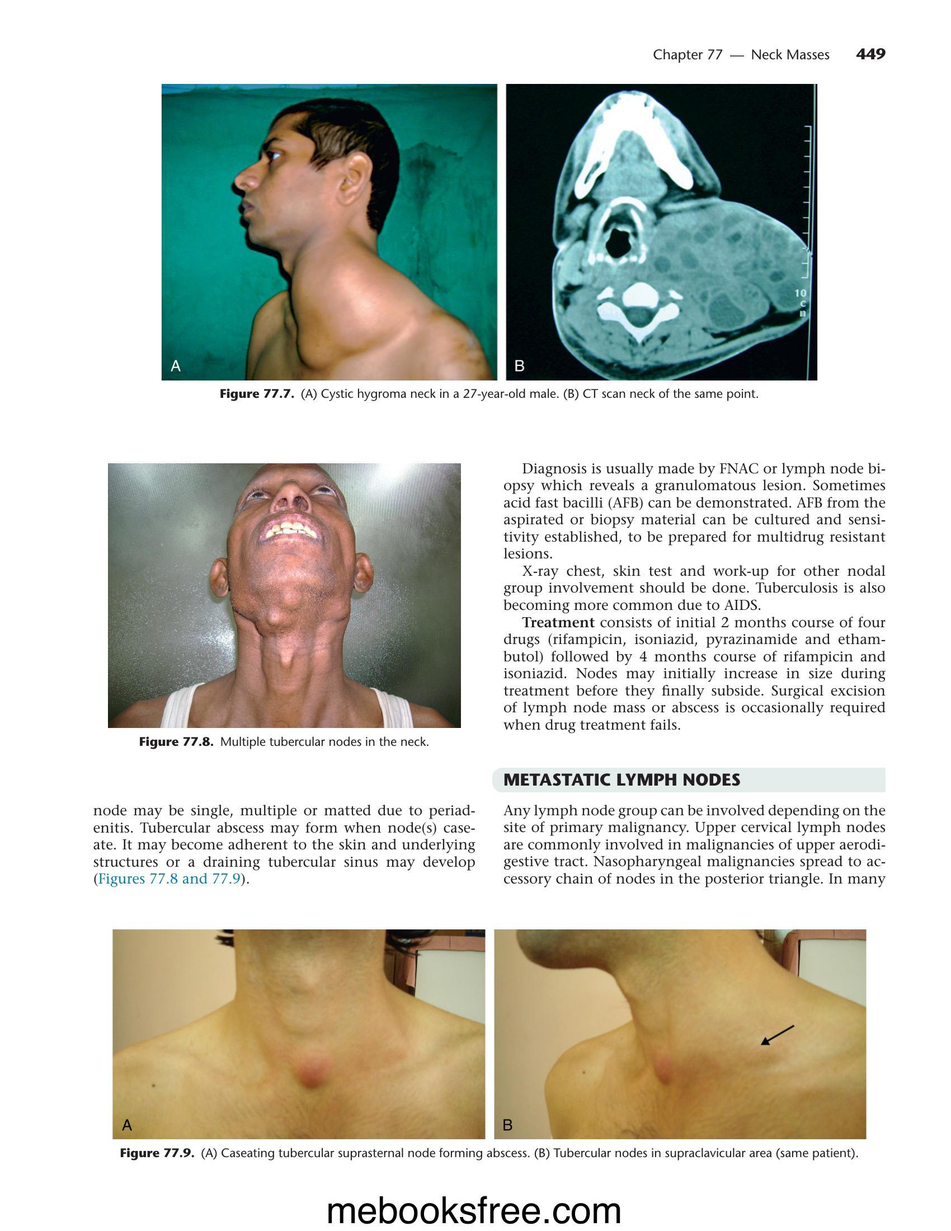caption: (119, 1146, 859, 1162), (218, 387, 759, 402), (137, 735, 430, 751), (121, 1117, 134, 1132), (514, 357, 526, 373), (170, 358, 182, 372), (503, 1117, 514, 1132)
header: (652, 48, 830, 64)
image: (161, 83, 498, 381), (108, 462, 462, 728), (506, 83, 818, 381), (494, 928, 867, 1140), (112, 928, 486, 1139)
section-heading: (502, 772, 741, 786)
text: (502, 461, 887, 735), (91, 803, 477, 888), (502, 804, 887, 889)
